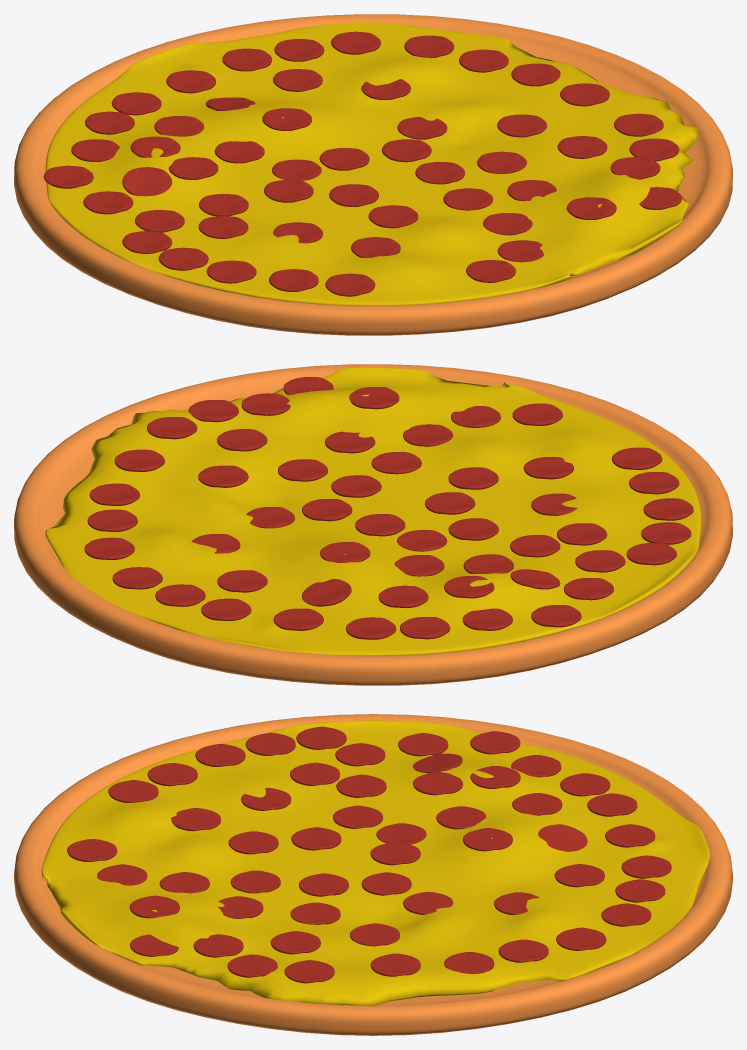
The model's file is pizza.fbx.
3 renders of one model, top to bottom at view 1: azimuth 30°, elevation 25°; view 2: azimuth 150°, elevation 25°; view 3: azimuth 270°, elevation 25°, orthographic.
Parts seen in each view (by area): view 1: Circle, Circle.036, Cylinder; view 2: Circle, Circle.036, Cylinder; view 3: Circle, Circle.036, Cylinder.
Part boxes in pixels (x1=…): Circle: x1=45, y1=22, x2=698, y2=305; Circle.036: x1=43, y1=31, x2=681, y2=296; Cylinder: x1=14, y1=14, x2=732, y2=335; Circle: x1=45, y1=367, x2=701, y2=655; Circle.036: x1=84, y1=377, x2=693, y2=639; Cylinder: x1=14, y1=364, x2=732, y2=685; Circle: x1=41, y1=720, x2=709, y2=1005; Circle.036: x1=67, y1=726, x2=671, y2=983; Cylinder: x1=14, y1=714, x2=732, y2=1035.
Bounding box in the file's own units: 180 × 12.38 × 180.
